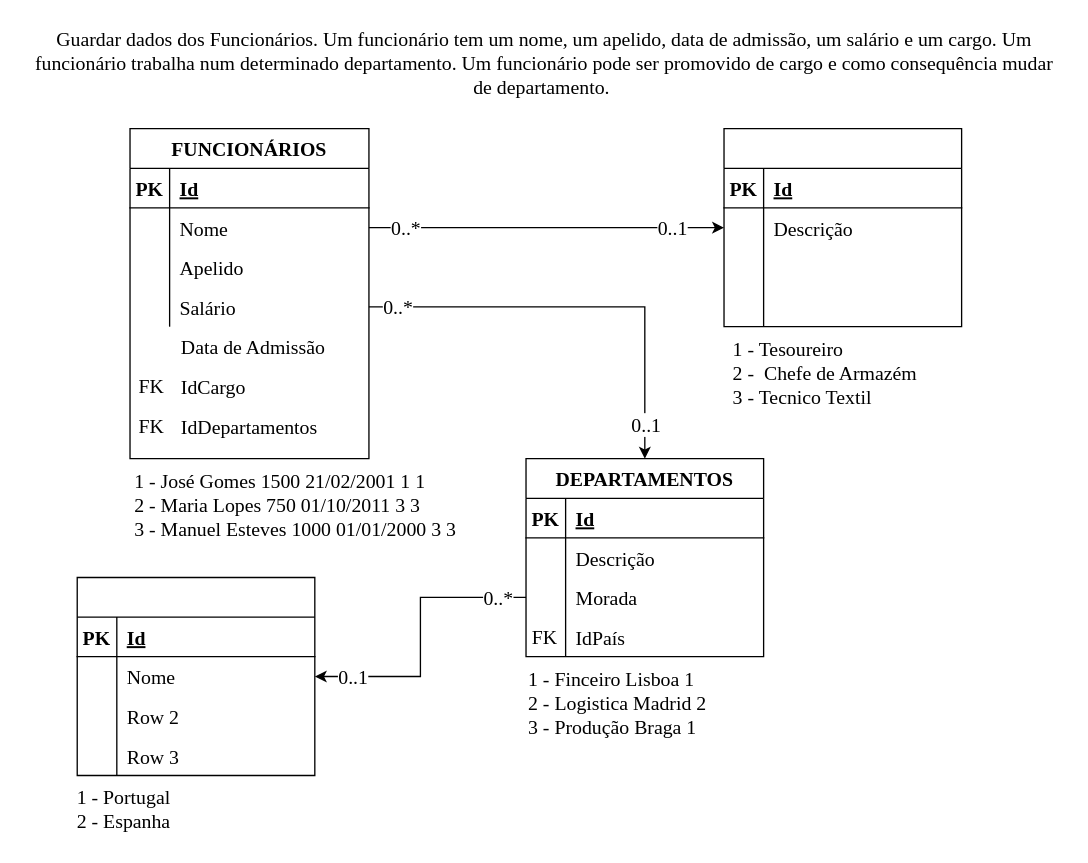
Image size: 1088x863. Some labels were removed from this diagram. The shapes that lost their labels are listed below. From the top down, each one's box as (x1, y1, x2, y2) in pixels, then its label:
(723, 127, 962, 327): CARGOS
(76, 576, 315, 776): Países
